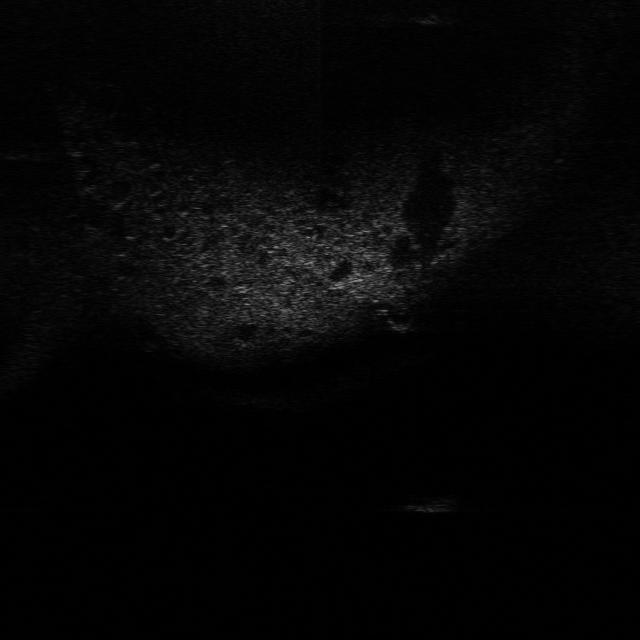ball: (386, 298, 418, 334)
cube: (398, 491, 466, 514)
